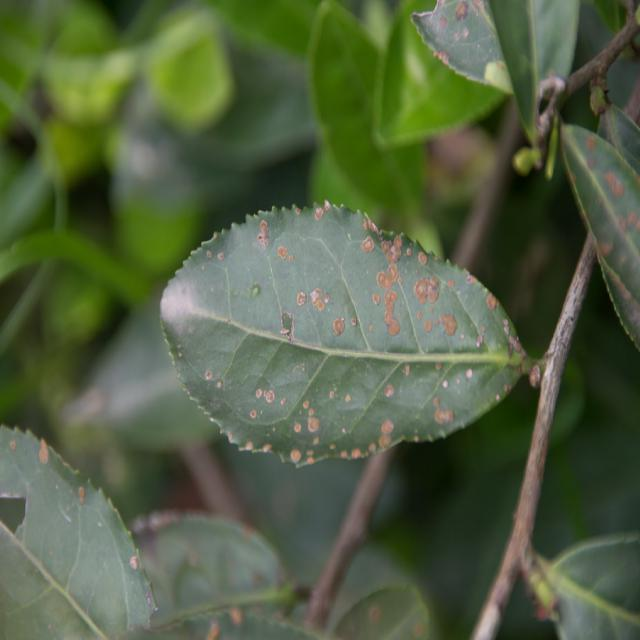Tea algae leaf spot: (128, 196, 492, 440)
